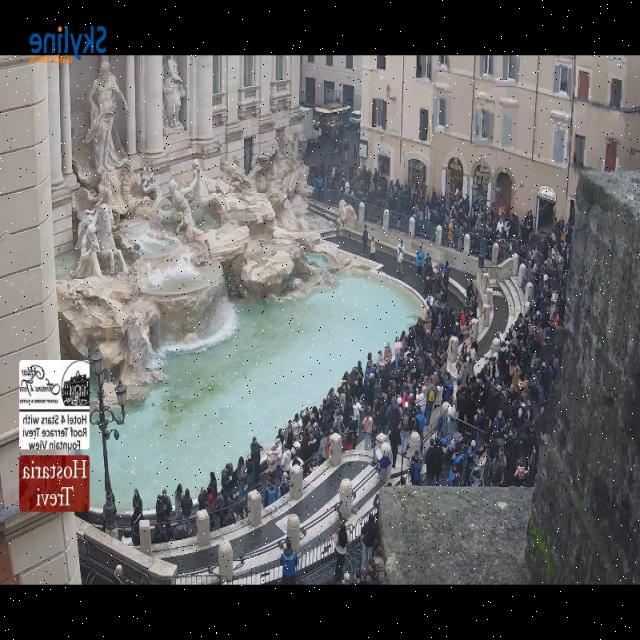person: (512, 222, 570, 372), (518, 220, 571, 370), (296, 376, 361, 435), (383, 330, 420, 421), (396, 315, 431, 403), (267, 410, 311, 476), (442, 373, 490, 431), (344, 358, 381, 428), (356, 363, 400, 409), (428, 304, 449, 391), (309, 388, 342, 439), (361, 373, 385, 435), (541, 210, 563, 272), (385, 331, 410, 384), (512, 340, 531, 408), (432, 310, 447, 394), (500, 420, 519, 485), (540, 291, 563, 343), (456, 319, 472, 389), (512, 420, 537, 463), (516, 345, 534, 404), (323, 398, 351, 435), (321, 372, 347, 410), (352, 358, 371, 407), (361, 513, 377, 571), (503, 210, 531, 243), (497, 332, 511, 396), (524, 424, 538, 487), (367, 395, 388, 435), (424, 438, 441, 485), (370, 173, 392, 209), (343, 366, 360, 412), (334, 524, 347, 582), (328, 388, 345, 432), (280, 538, 296, 584), (398, 184, 419, 219), (455, 385, 474, 423), (527, 375, 542, 421), (364, 350, 383, 385), (552, 208, 571, 243), (424, 252, 442, 287), (384, 397, 401, 434), (180, 488, 193, 536), (439, 310, 459, 341), (538, 363, 552, 407), (456, 344, 470, 388), (368, 176, 387, 208), (400, 402, 411, 455), (379, 177, 396, 211), (322, 388, 341, 418), (212, 492, 227, 530), (388, 422, 400, 468), (250, 437, 262, 482), (341, 165, 359, 195), (463, 440, 475, 485), (453, 202, 464, 250), (326, 164, 346, 190), (412, 182, 426, 219), (236, 456, 246, 507), (518, 395, 533, 429), (489, 452, 504, 485), (130, 500, 141, 545), (372, 546, 385, 584), (424, 380, 435, 424), (449, 438, 463, 472), (560, 212, 574, 245), (377, 176, 391, 209), (330, 133, 338, 189), (409, 450, 422, 484), (161, 490, 171, 534), (329, 406, 344, 435), (560, 213, 574, 244), (300, 430, 313, 462), (400, 378, 413, 409), (223, 463, 235, 496), (353, 171, 367, 199), (267, 444, 277, 483), (389, 179, 401, 211), (414, 403, 424, 441), (423, 255, 432, 296), (264, 479, 277, 507), (513, 457, 526, 485), (316, 431, 327, 464), (363, 410, 372, 450), (533, 405, 545, 435), (352, 399, 363, 431), (336, 166, 347, 198), (156, 496, 165, 535), (362, 559, 376, 584), (244, 456, 254, 490), (227, 463, 237, 497), (298, 410, 311, 436), (552, 248, 563, 278), (474, 443, 486, 470), (551, 215, 563, 242), (518, 211, 528, 243), (327, 165, 340, 189), (442, 372, 452, 403), (292, 413, 303, 441), (377, 455, 391, 477), (280, 449, 291, 477), (432, 265, 442, 295), (552, 217, 564, 242), (517, 373, 527, 402), (445, 402, 455, 431), (509, 358, 519, 387), (220, 464, 230, 492), (174, 484, 182, 519), (205, 483, 215, 511), (338, 164, 354, 181), (220, 509, 235, 527), (172, 520, 186, 539), (416, 245, 424, 278), (394, 337, 402, 370), (447, 203, 457, 229), (415, 386, 425, 412), (312, 162, 329, 177), (233, 504, 247, 522), (447, 464, 459, 485), (208, 471, 217, 499), (333, 124, 340, 159), (396, 239, 403, 274), (468, 292, 477, 319), (304, 455, 316, 475), (284, 420, 292, 450), (342, 431, 354, 451), (279, 472, 288, 497), (468, 340, 476, 368), (197, 488, 207, 510), (524, 210, 531, 241), (311, 422, 319, 449), (383, 343, 391, 370), (214, 493, 223, 517), (338, 382, 345, 412), (112, 565, 123, 584), (132, 489, 141, 511), (442, 262, 449, 288), (376, 350, 384, 372), (372, 493, 378, 522), (354, 570, 366, 584), (466, 278, 473, 301), (362, 225, 367, 256), (440, 285, 447, 307), (364, 169, 371, 191), (316, 162, 326, 177), (316, 175, 322, 199), (369, 237, 375, 261), (330, 128, 336, 152), (447, 217, 452, 244), (459, 310, 466, 328), (496, 217, 503, 235), (372, 169, 378, 190), (343, 139, 348, 163), (100, 509, 105, 532), (341, 572, 350, 584), (343, 180, 350, 195), (101, 509, 105, 532), (304, 165, 309, 181), (399, 476, 405, 485)
